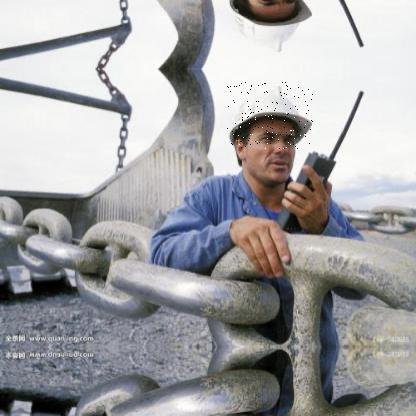safetyhelmet: (226, 82, 314, 150)
